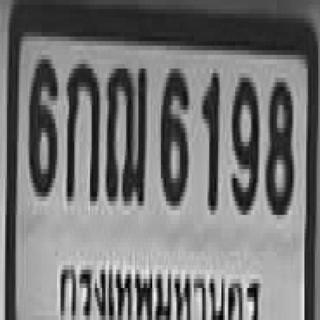A01: (64, 59, 98, 197)
A12: (104, 59, 145, 201)
N01: (201, 69, 218, 206)
N06: (159, 64, 187, 201), (28, 55, 55, 192)
N08: (265, 78, 292, 210)
N09: (230, 73, 258, 210)
P04: (52, 248, 267, 320)
